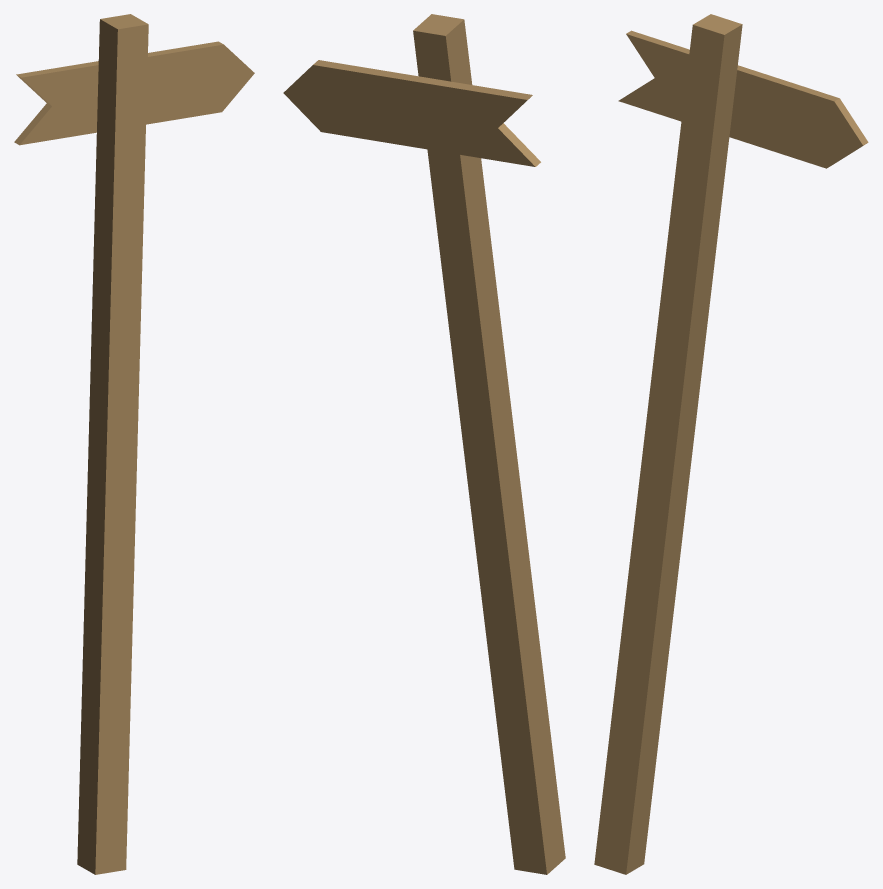
File: road_sign.glb
The picture shows the model from 3 angles, left to right: view 1: azimuth 30°, elevation 25°; view 2: azimuth 150°, elevation 25°; view 3: azimuth 330°, elevation 25°; orthographic projection. The views are drawn at different scales.
Parts seen in each view (by area): view 1: Material2 (×2); view 2: Material2 (×2); view 3: Material2 (×2).
Boxes of the visible parts, x1,y1,x2,y2 form: Material2 (×2): (14, 14, 254, 874); Material2 (×2): (283, 14, 565, 874); Material2 (×2): (594, 14, 868, 874).
Size of the model in its own units: 30.15 by 98.43 by 12.73.
